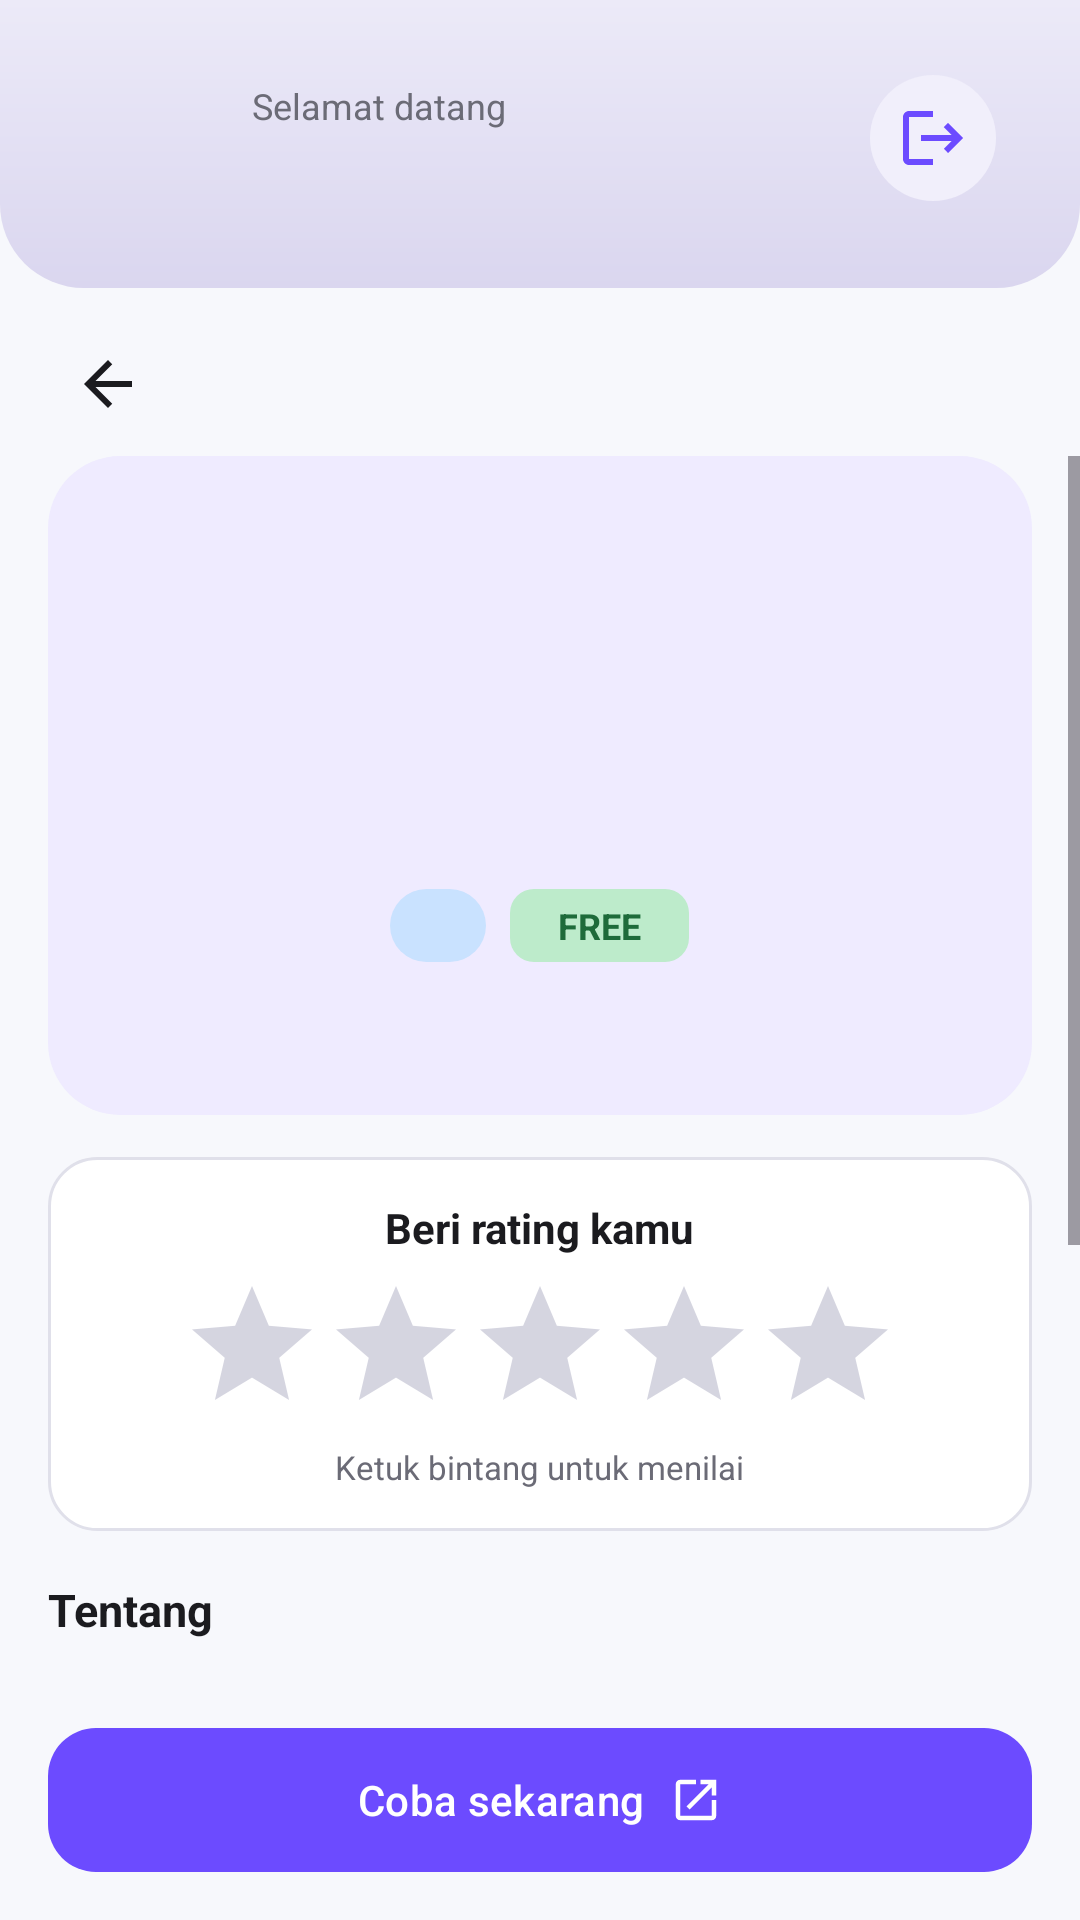

Icon bounding boxes for this 1080×1920 phone screenshot, format (x1, y1, x2, y2):
Kembali: (84, 360, 132, 408)
